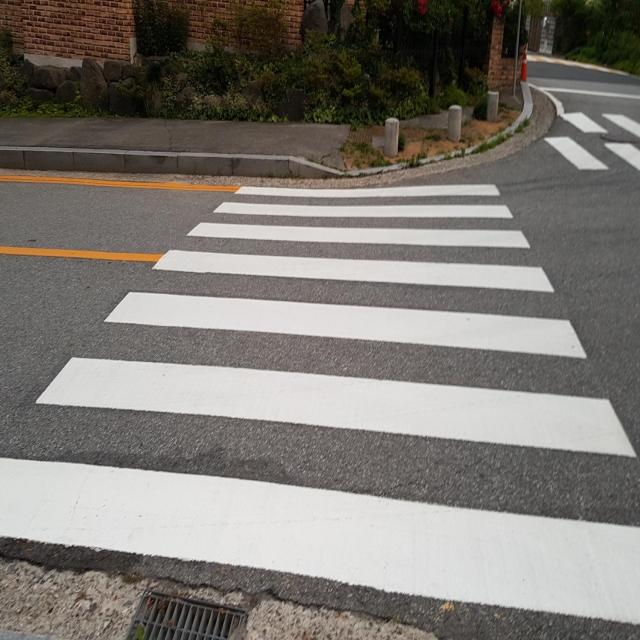횡단보도: (0, 182, 640, 625), (542, 109, 640, 178)
